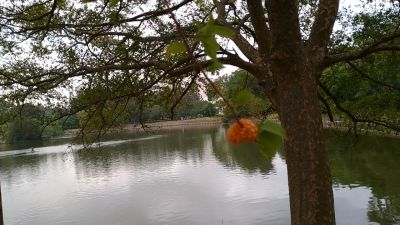eggs: (226, 117, 260, 145)
